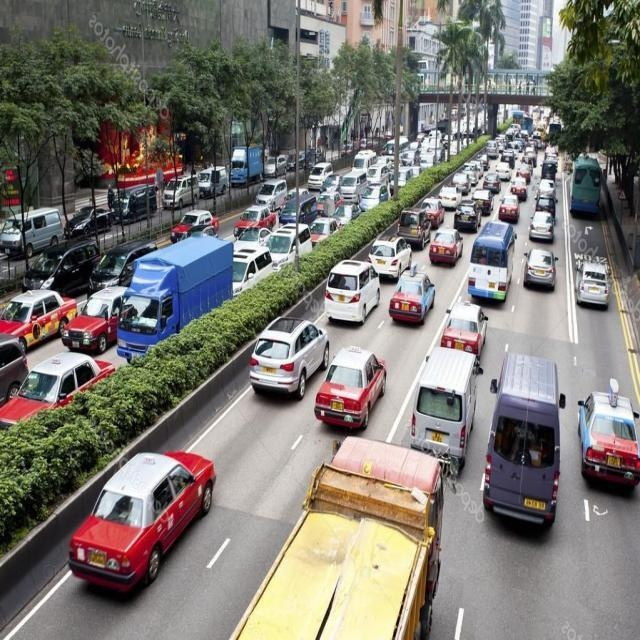bus: (455, 224, 510, 292)
car: (48, 445, 235, 615), (468, 354, 577, 544), (0, 351, 112, 448), (561, 373, 640, 491), (241, 317, 341, 395), (406, 348, 474, 457), (304, 350, 382, 434), (60, 273, 135, 351), (4, 282, 64, 348), (442, 307, 502, 365), (327, 261, 377, 324), (391, 268, 443, 326), (229, 239, 282, 295), (574, 254, 612, 317), (427, 221, 468, 277), (512, 247, 561, 293), (380, 243, 415, 270)
truck: (232, 431, 465, 640), (112, 226, 240, 366)
